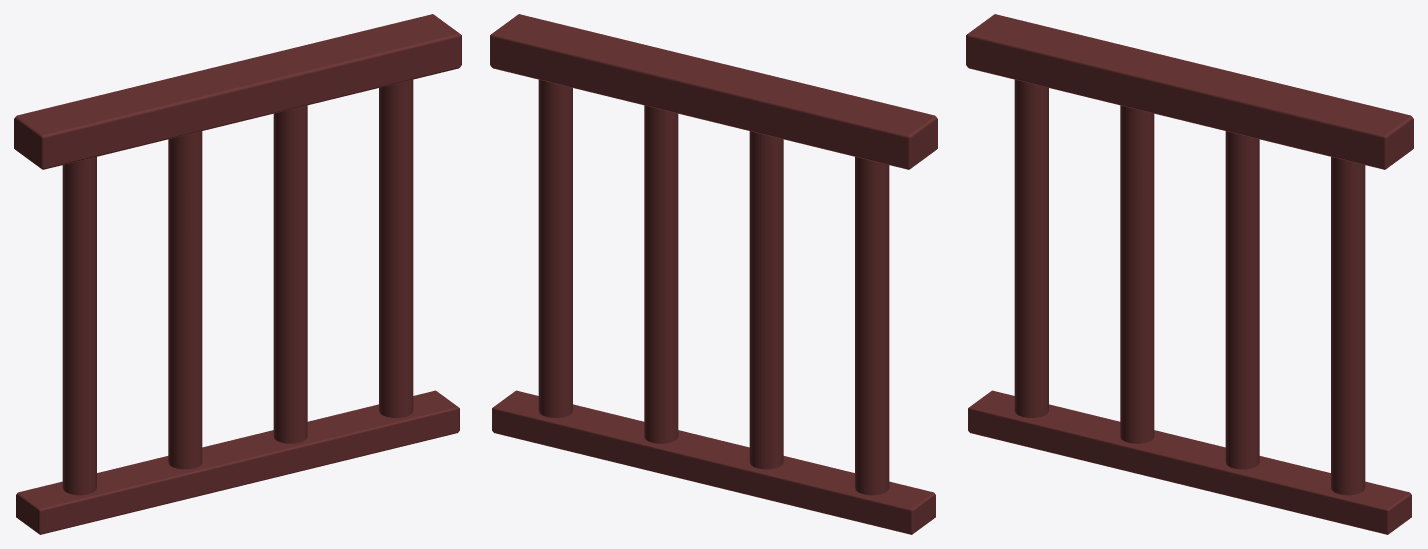
Rendered from living-cave-railing.4321ca00.glb.
The picture shows the model from 3 angles, left to right: view 1: azimuth 30°, elevation 25°; view 2: azimuth 150°, elevation 25°; view 3: azimuth 330°, elevation 25°; orthographic projection.
Parts seen in each view (by area): view 1: body; view 2: body; view 3: body.
Part boxes in pixels (x1,y1,x2,y2): body: (14, 14, 461, 534); body: (490, 14, 937, 534); body: (966, 14, 1413, 534).
Bounding box in the file's own units: 1 × 0.91 × 0.12.
